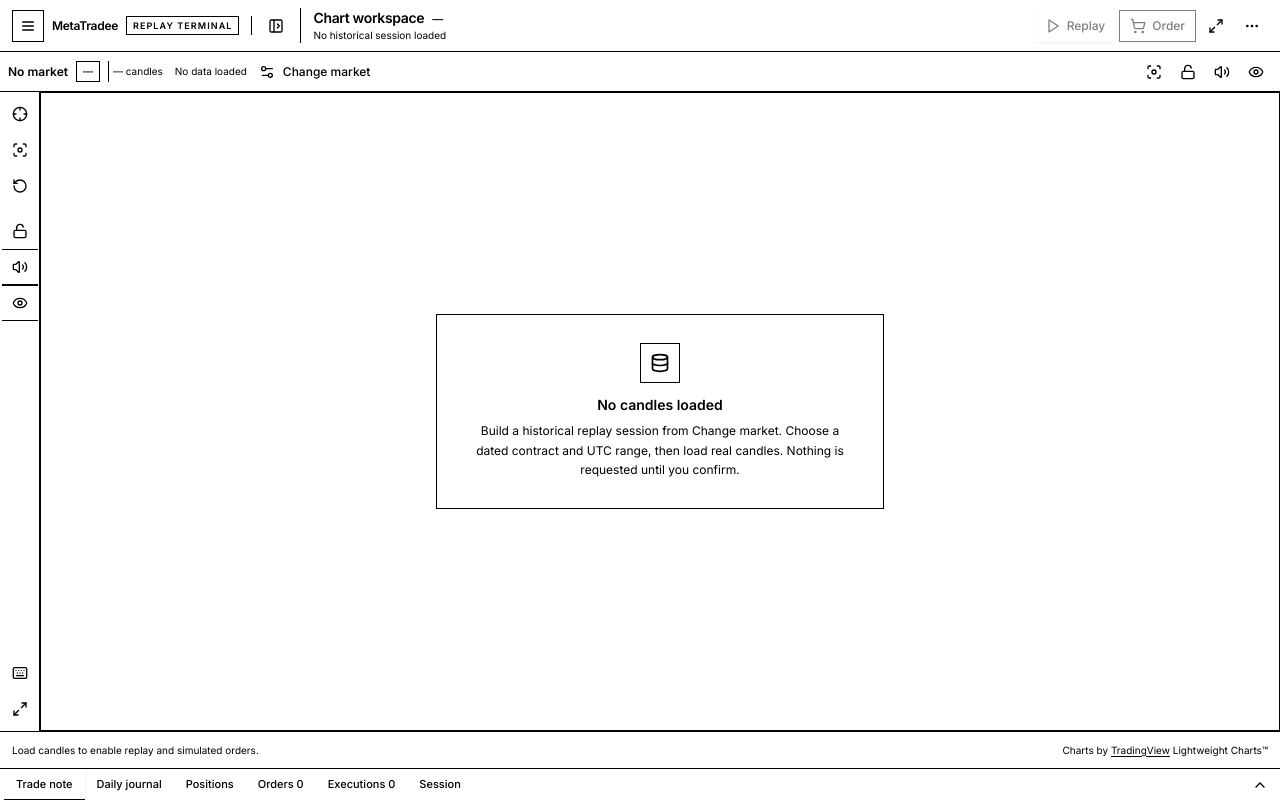
Test case: initial state › renders controls with conservative defaults and loads nothing
The width and height of the screenshot is (1280, 800).
What coordinates should you click on to do the following:
click the button "Change market"
I would click on:
 (315, 72)
Its box is [251,56,378,88].
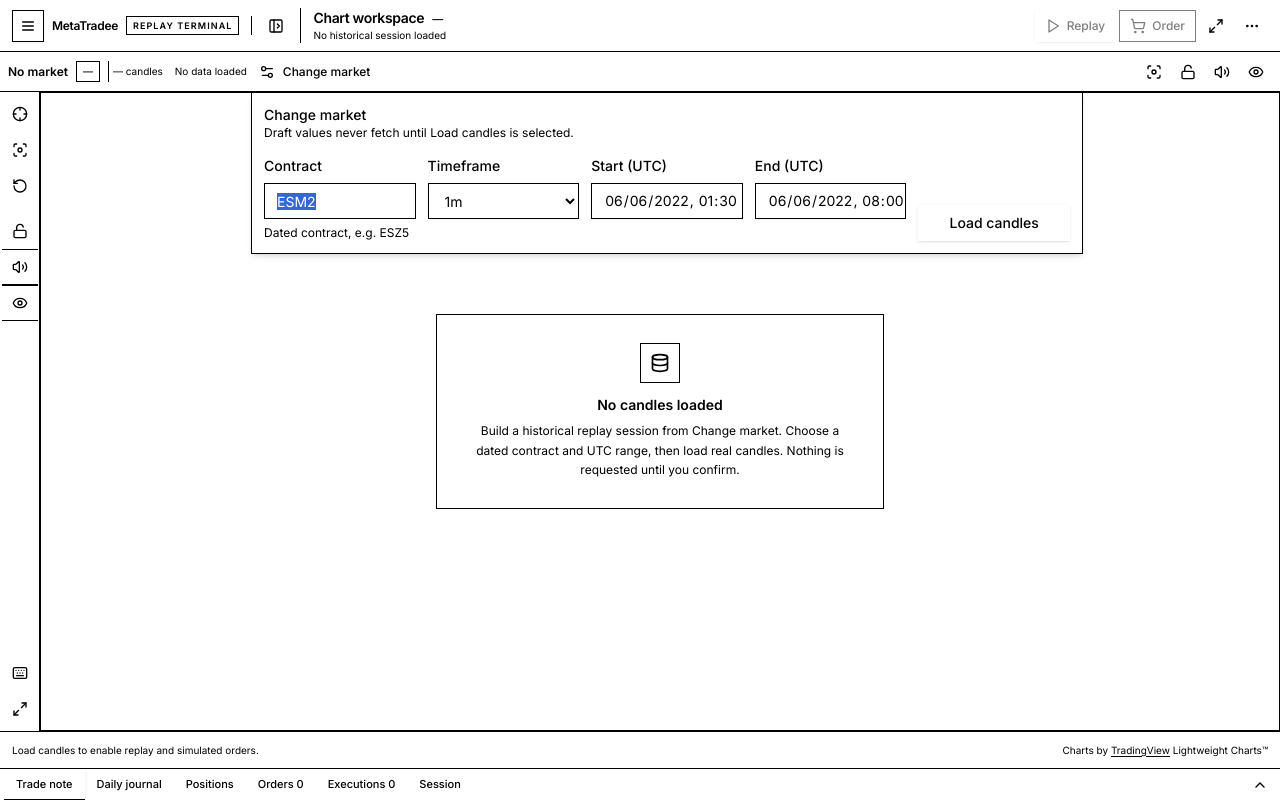
Result: the button "Load candles" is shown at [918,205,1070,241]
Result: the field labelled "Contract" holds "ESM2" at [264,183,416,219]
Result: the dropdown labelled "Timeframe" shows "1m" at [428,183,579,219]
